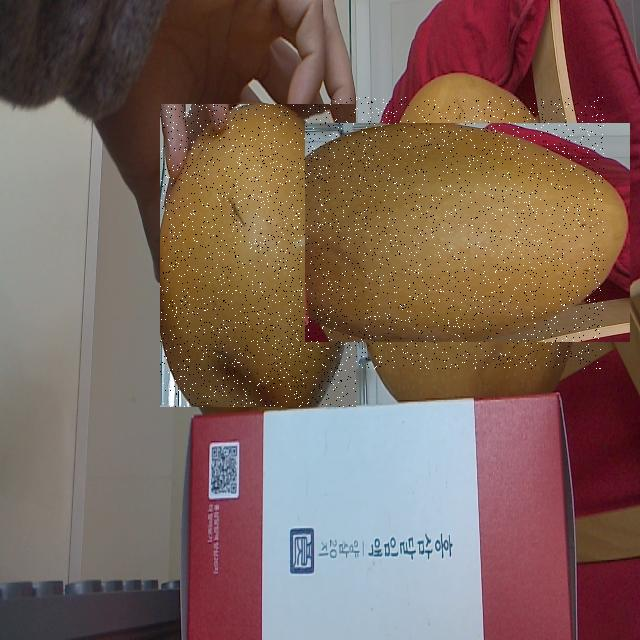pear: (331, 97, 604, 369), (160, 104, 356, 407)
